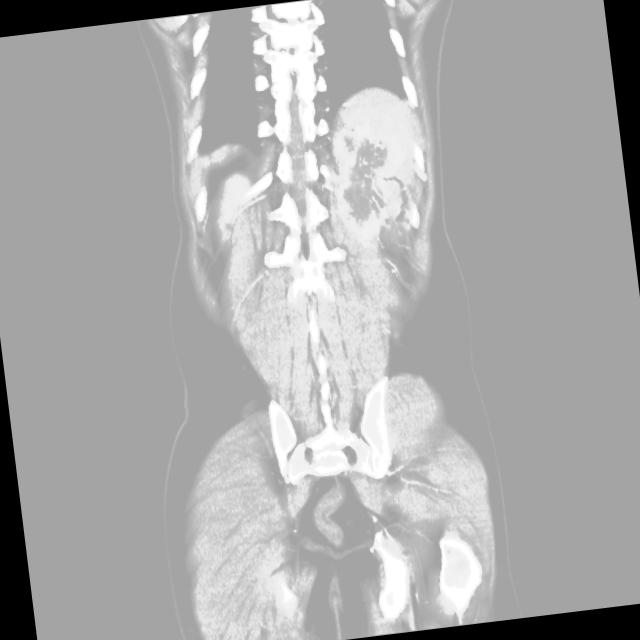TUMOR: (89, 129, 528, 490)
